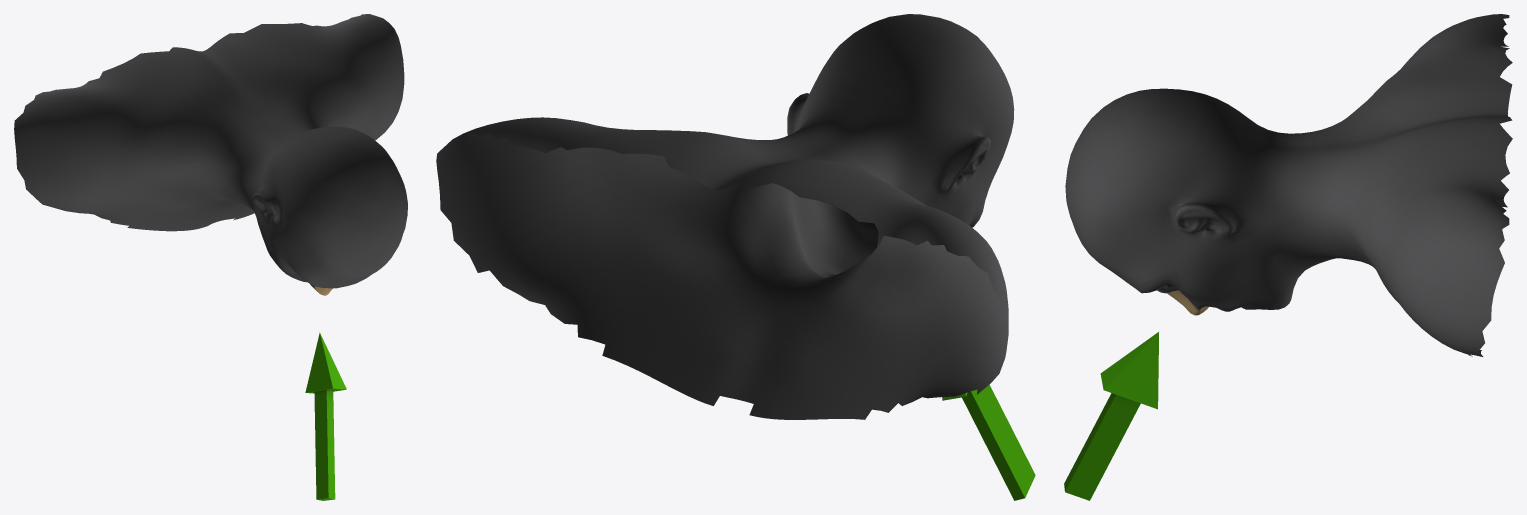
File: nose.obj
The picture shows the model from 3 angles, left to right: view 1: azimuth 30°, elevation 25°; view 2: azimuth 150°, elevation 25°; view 3: azimuth 270°, elevation 25°; orthographic projection. The views are drawn at different scales.
Parts seen in each view (by area): view 1: Eyes; view 2: Eyes; view 3: Eyes.
Part boxes in pixels (x1,y1,x2,y2): Eyes: [14, 14, 407, 500]; Eyes: [436, 14, 1035, 500]; Eyes: [1064, 14, 1512, 500].
Bounding box in the file's own units: 62.21 × 51.49 × 48.68.
Materials: 1 (1 with a texture image).
